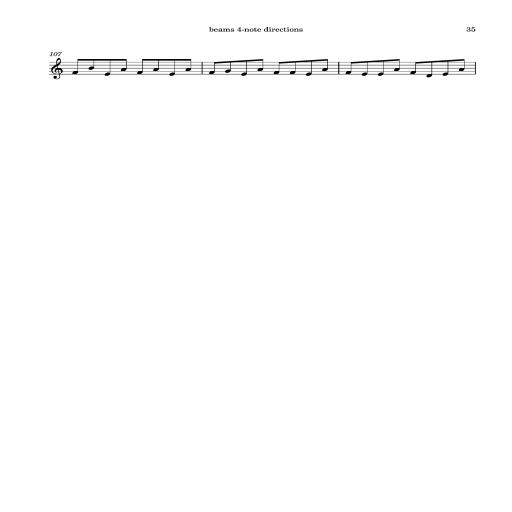eighth_note: (104, 59, 112, 76), (426, 61, 434, 78), (241, 60, 249, 76), (442, 60, 450, 76), (72, 59, 80, 74), (306, 60, 313, 76), (378, 60, 385, 76), (137, 59, 144, 74), (170, 59, 176, 76), (410, 62, 418, 74), (290, 61, 297, 74), (362, 61, 368, 76), (88, 59, 96, 70), (121, 59, 128, 71), (209, 62, 216, 74), (225, 61, 232, 73), (322, 59, 329, 71), (394, 59, 401, 71), (154, 59, 160, 71), (186, 59, 192, 71), (258, 59, 264, 71), (274, 62, 280, 74), (346, 62, 352, 74), (459, 59, 465, 71)
note_head: (169, 72, 175, 76), (225, 69, 231, 73), (241, 72, 247, 76), (306, 72, 312, 76), (426, 74, 432, 78), (89, 66, 94, 70), (105, 72, 110, 76), (362, 72, 367, 76), (378, 72, 383, 76), (443, 72, 448, 76), (72, 71, 78, 74), (120, 68, 126, 71), (137, 71, 143, 74), (153, 68, 159, 71), (209, 71, 215, 74), (322, 68, 328, 71), (394, 68, 400, 71), (410, 71, 416, 74), (186, 68, 191, 71), (258, 68, 263, 71), (274, 71, 279, 74), (290, 71, 295, 74), (346, 71, 351, 74), (459, 68, 464, 71)
staff: (49, 62, 476, 74)
treble_clef: (51, 58, 63, 79)
